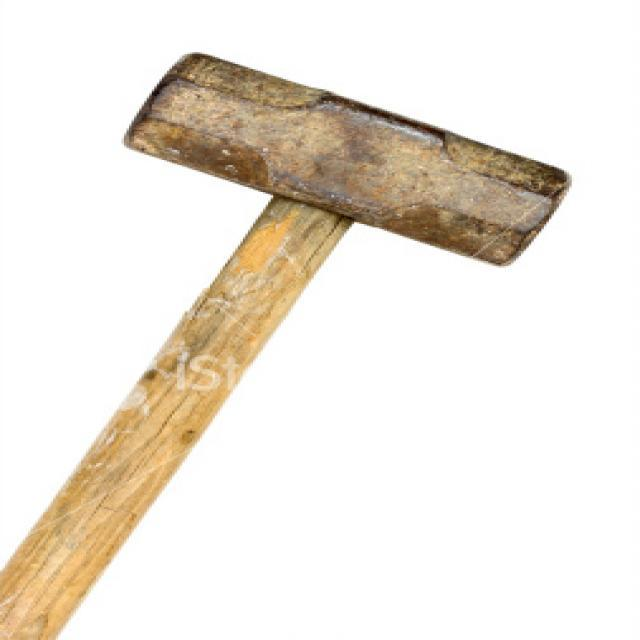hammer: (0, 47, 581, 640)
